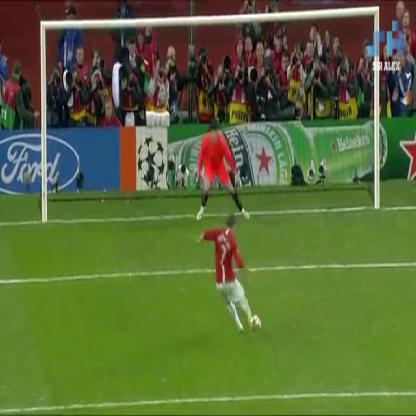penalty kick: (173, 10, 265, 347)
